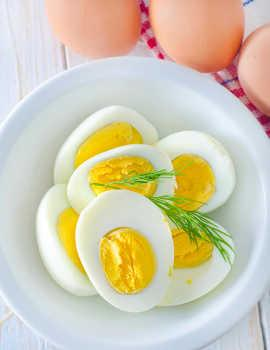telur: (94, 208, 159, 293), (171, 144, 228, 202), (43, 201, 81, 282), (69, 134, 153, 169), (181, 256, 213, 290)
